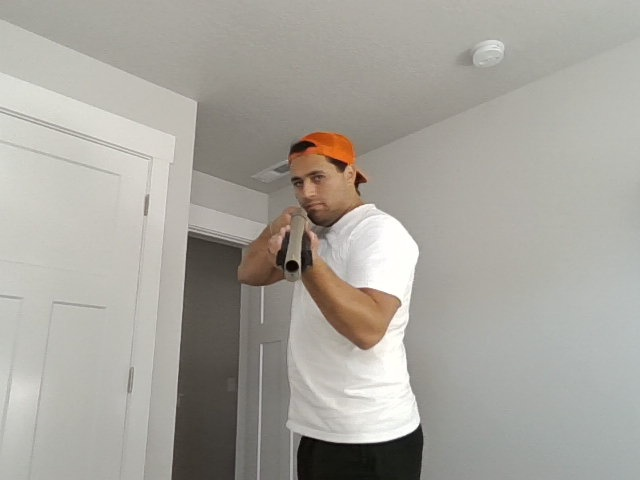shotgun: (274, 207, 315, 286)
